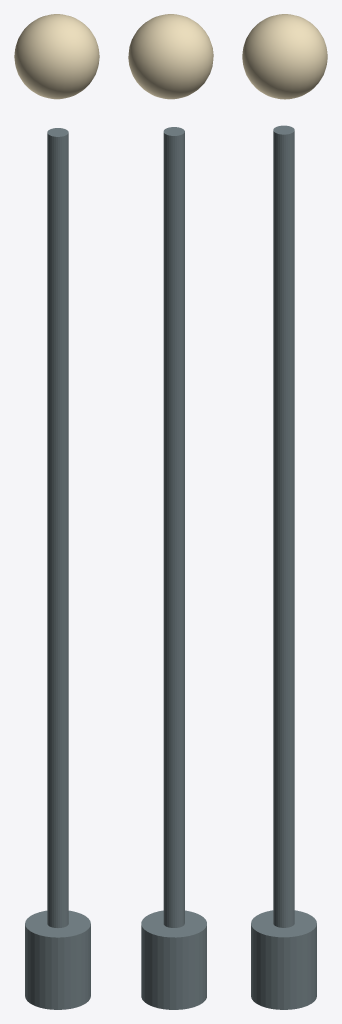
Rendered from Lightpost.fbx.
3 renders of one model, left to right at view 1: azimuth 90°, elevation 25°; view 2: azimuth 150°, elevation 25°; view 3: azimuth 270°, elevation 25°, orthographic.
Parts seen in each view (by area): view 1: Cylinder.005, Sphere.005; view 2: Cylinder.005, Sphere.005; view 3: Cylinder.005, Sphere.005.
Boxes of the visible parts, <box> form: Cylinder.005: <box>25,128,90,1009</box>; Sphere.005: <box>14,14,99,99</box>; Cylinder.005: <box>141,127,206,1009</box>; Sphere.005: <box>128,14,213,99</box>; Cylinder.005: <box>251,125,316,1009</box>; Sphere.005: <box>242,14,327,99</box>.
Bounding box in the file's own units: 31.51 × 398 × 31.51.
